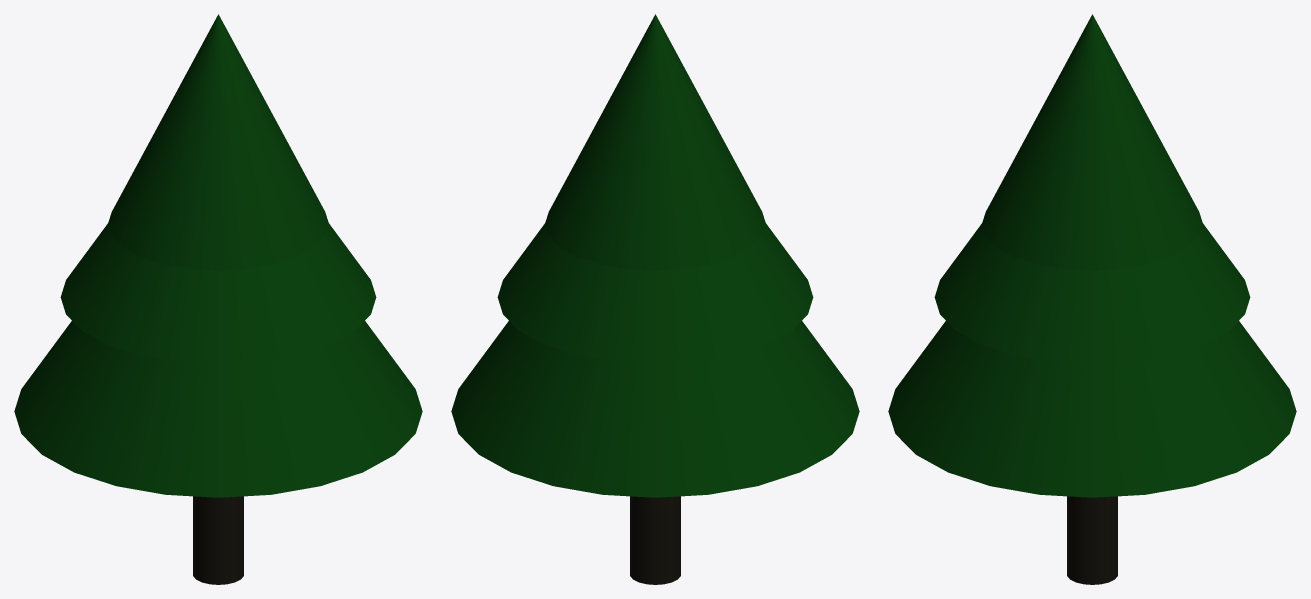
The model's file is tree.fbx.
The picture shows the model from 3 angles, left to right: view 1: azimuth 30°, elevation 25°; view 2: azimuth 150°, elevation 25°; view 3: azimuth 270°, elevation 25°; orthographic projection.
Parts seen in each view (by area): view 1: Tree; view 2: Tree; view 3: Tree.
Boxes of the visible parts, x1=… form: Tree: x1=14, y1=14, x2=422, y2=584; Tree: x1=451, y1=14, x2=859, y2=584; Tree: x1=888, y1=14, x2=1296, y2=584.
Bounding box in the file's own units: 40.31 × 61.01 × 40.31.
